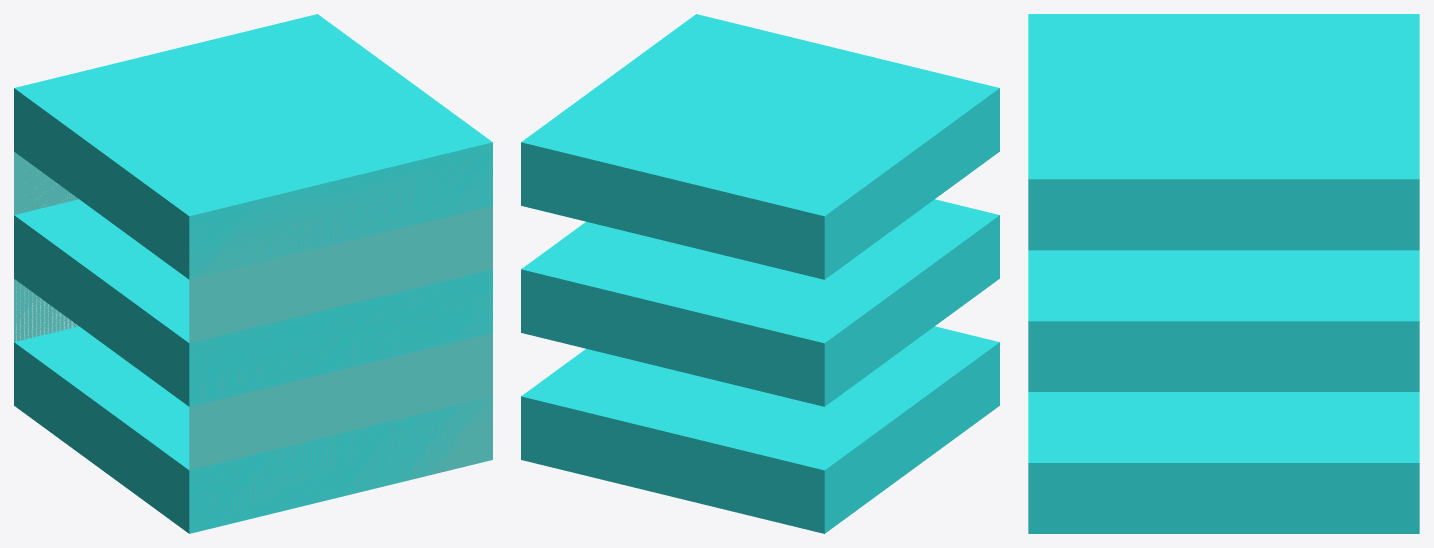
The model's file is BoxAnimated5.glb.
3 renders of one model, left to right at view 1: azimuth 30°, elevation 25°; view 2: azimuth 150°, elevation 25°; view 3: azimuth 270°, elevation 25°, orthographic. The views are drawn at different scales.
Visible parts, largest first — view 1: Cube (×3), Plane (×2); view 2: Cube (×3); view 3: Cube (×3).
Part boxes in pixels (left/top/right/bottom): Cube (×3): left=14, top=14, right=492, bottom=533; Plane (×2): left=14, top=142, right=492, bottom=532; Cube (×3): left=521, top=14, right=999, bottom=533; Cube (×3): left=1028, top=14, right=1419, bottom=533.
Size of the model in its own units: 1 by 1 by 1.
